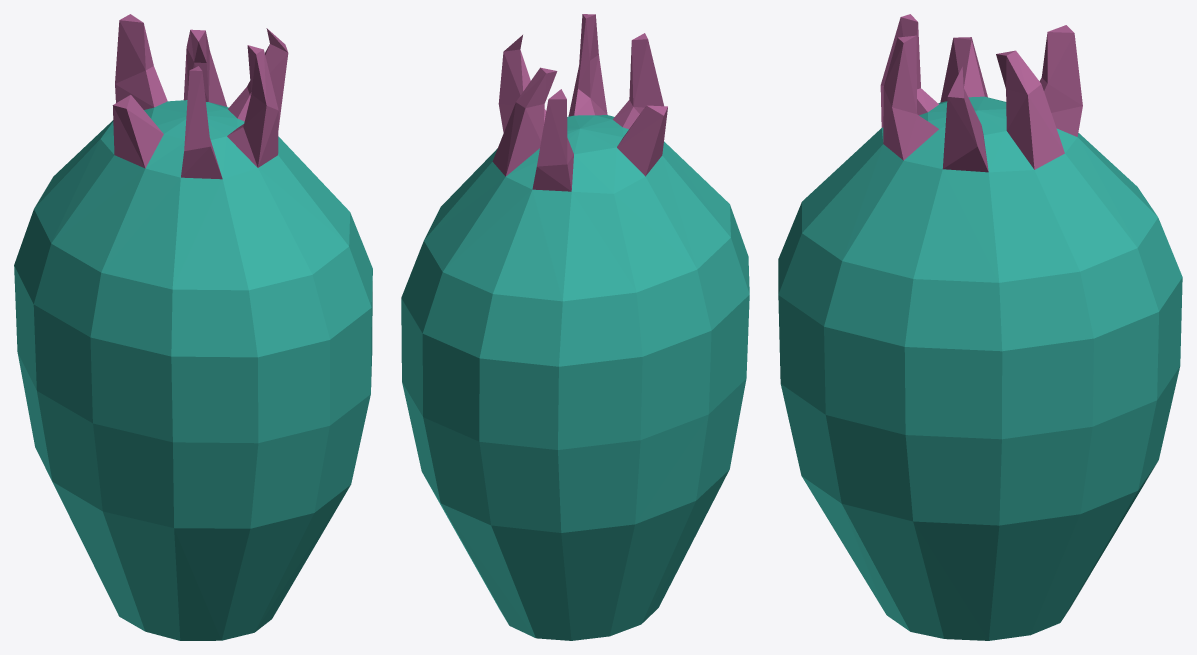
The model's file is teal_coral_textured.fbx.
The picture shows the model from 3 angles, left to right: view 1: azimuth 30°, elevation 25°; view 2: azimuth 150°, elevation 25°; view 3: azimuth 270°, elevation 25°; orthographic projection. The views are drawn at different scales.
Visible parts, largest first — view 1: teal coral; view 2: teal coral; view 3: teal coral.
Boxes of the visible parts, box(x1,y1,x2,y2) form: teal coral: box(14, 14, 372, 640); teal coral: box(401, 14, 749, 640); teal coral: box(778, 14, 1182, 640).
Bounding box in the file's own units: 145 × 267 × 167.
